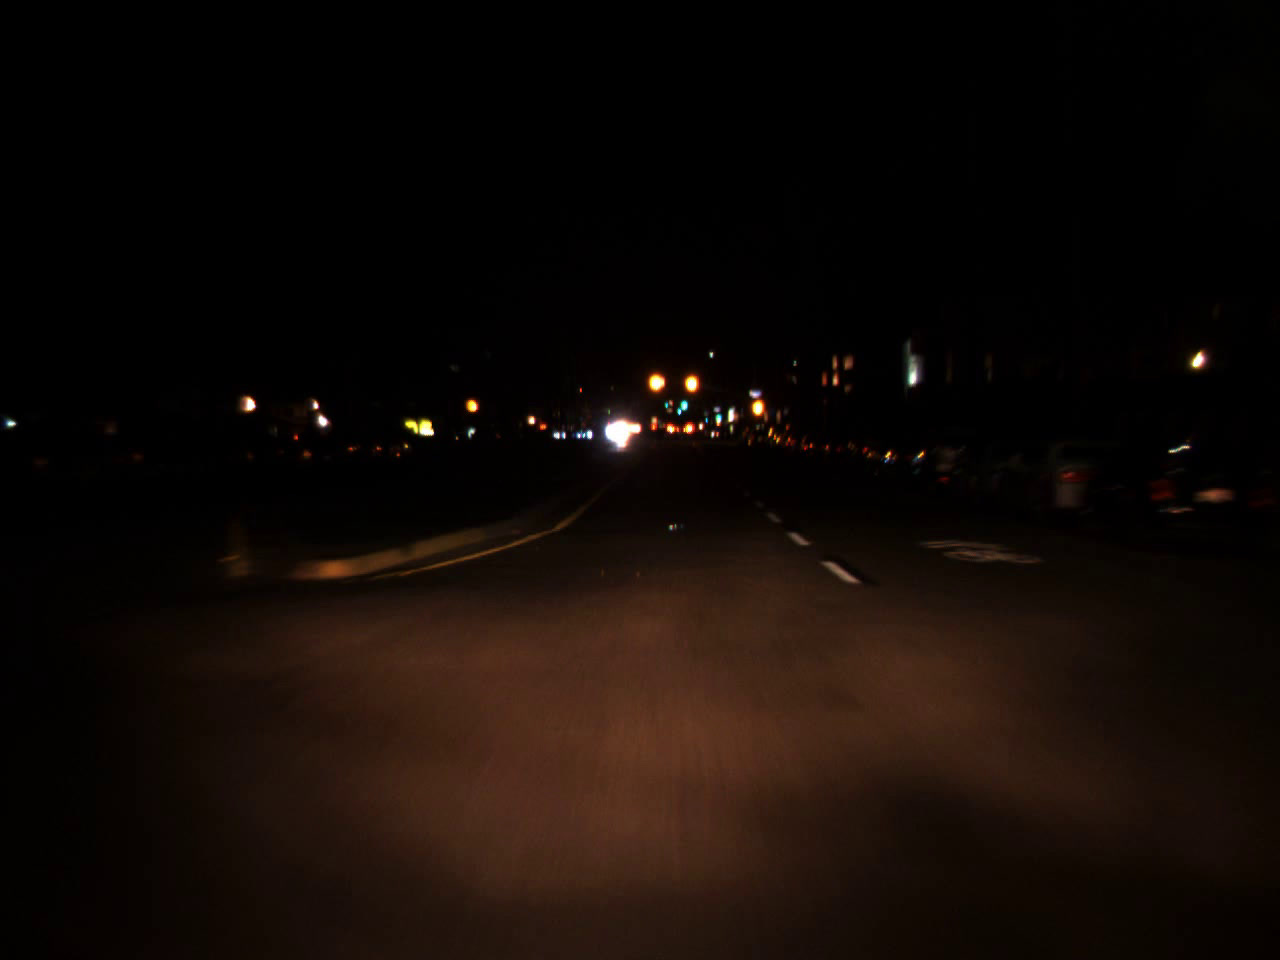go: (713, 403, 723, 424), (679, 391, 688, 412)
warning: (645, 359, 669, 404), (681, 363, 702, 403), (749, 387, 767, 427), (463, 390, 481, 419)
